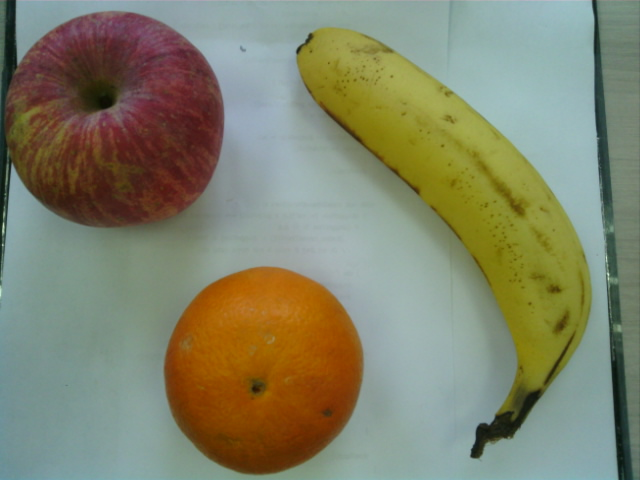normal_apple: (3, 11, 226, 229)
normal_banana: (296, 28, 594, 423)
normal_orange: (165, 266, 365, 475)
